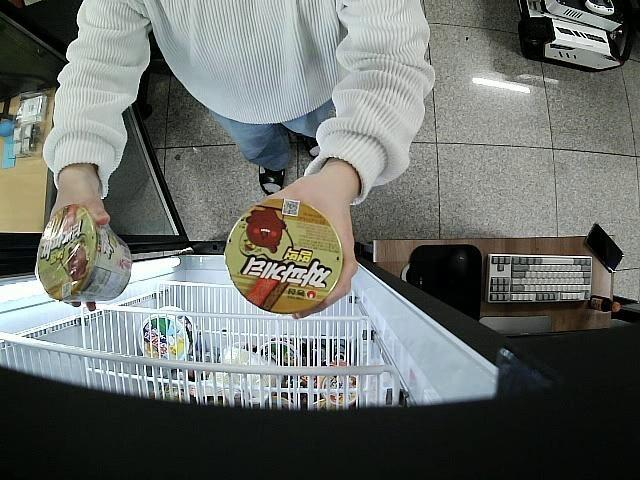04_chapagetti_S: (225, 198, 342, 316), (36, 204, 132, 304)
